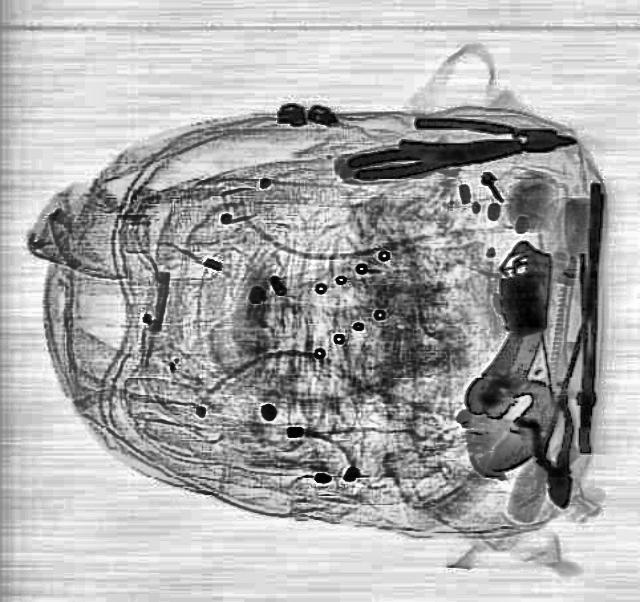Pliers: (346, 128, 520, 183), (512, 394, 592, 512)
